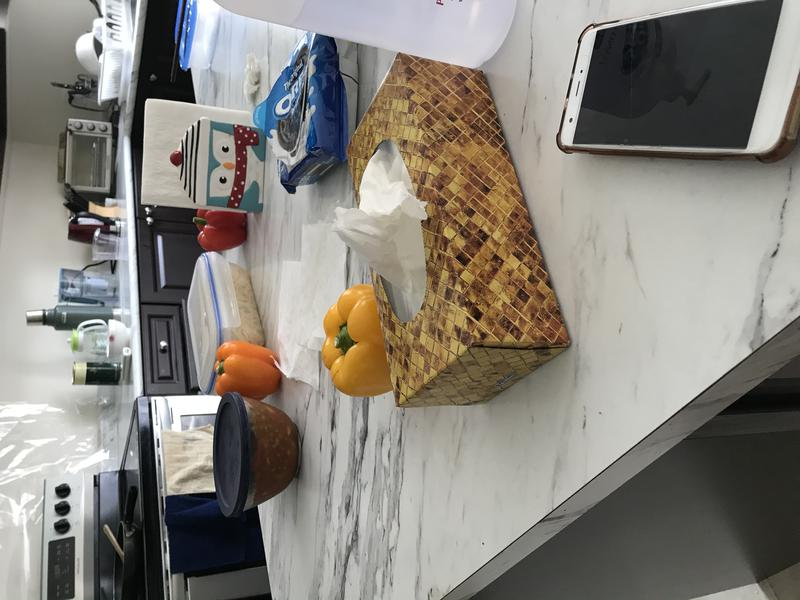orange_pepper: (209, 337, 286, 403)
red_pepper: (184, 197, 255, 257)
yellow_pepper: (308, 278, 416, 405)
